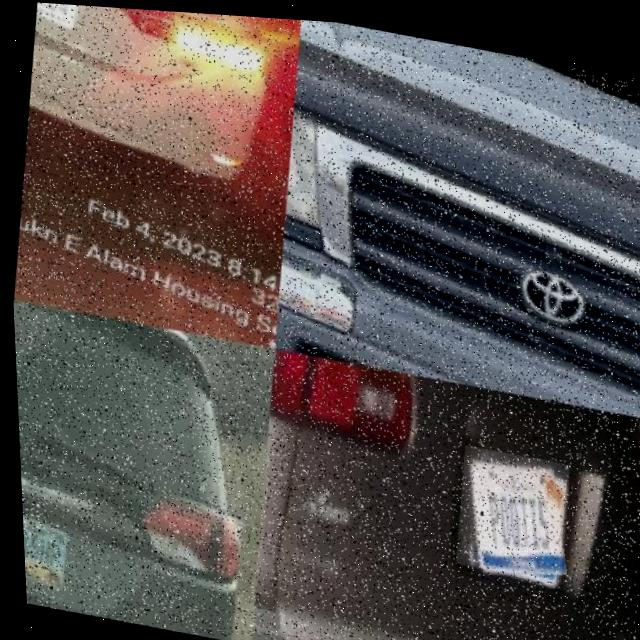LicensePlate: (461, 448, 556, 567), (18, 510, 58, 581)
